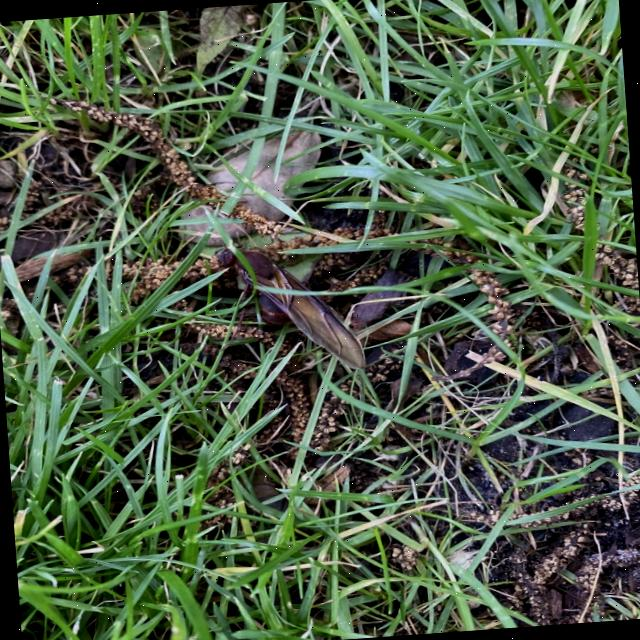Alive-Female-Alate: (185, 222, 366, 382)
